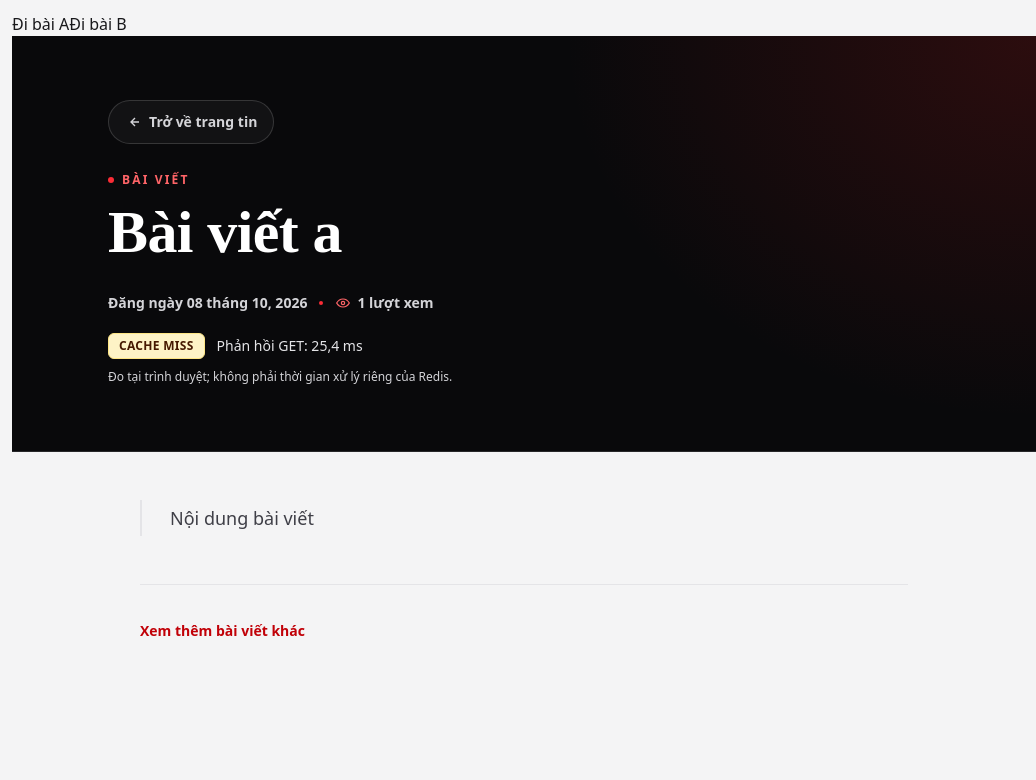
Test case: PostDetailPage hồi quy và badge cache › chuyển bài ẩn badge cũ; lỗi và retry lấy metadata mới
This screenshot has width=1036, height=780.
Expected: the text "CACHE MISS" is shown, [108, 333, 205, 359]
Step 1. Click the link "Đi bài B" → (98, 24), box [69, 13, 127, 35]
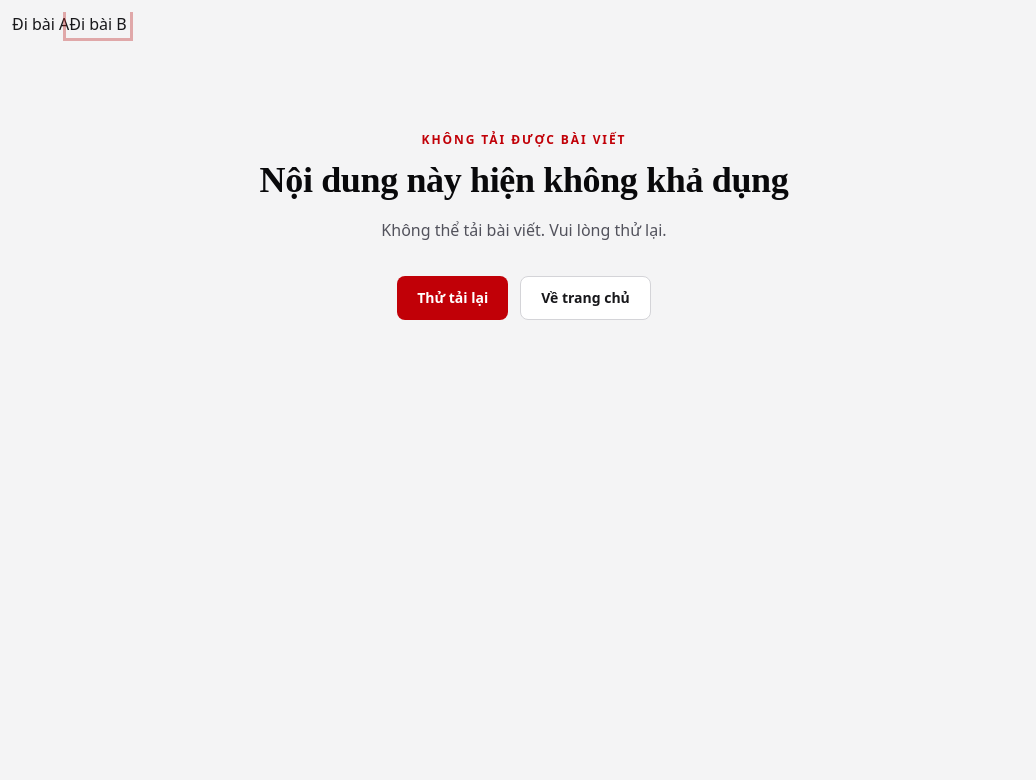
Now the text "CACHE MISS" is gone
Step 2. Click the button "Thử tải lại" → (453, 298), box [397, 276, 508, 320]
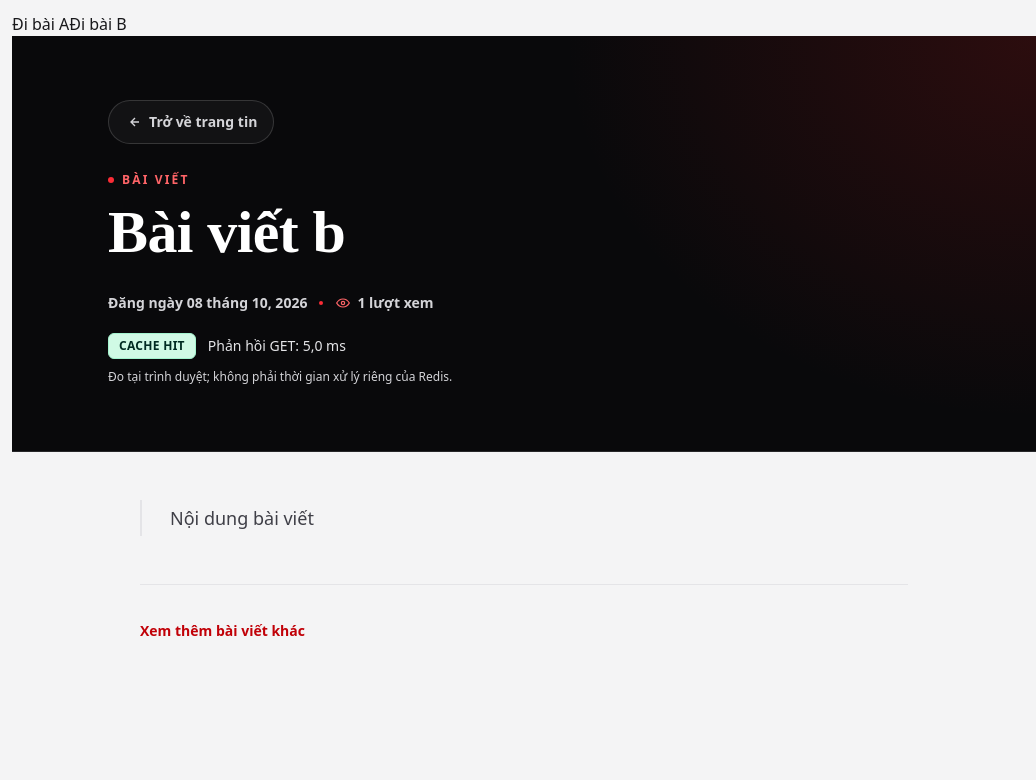
Now the text "CACHE HIT" is shown, box [108, 333, 196, 359]
Now the text "Phản hồi GET: 5,0 ms" is shown, box [208, 336, 346, 356]
